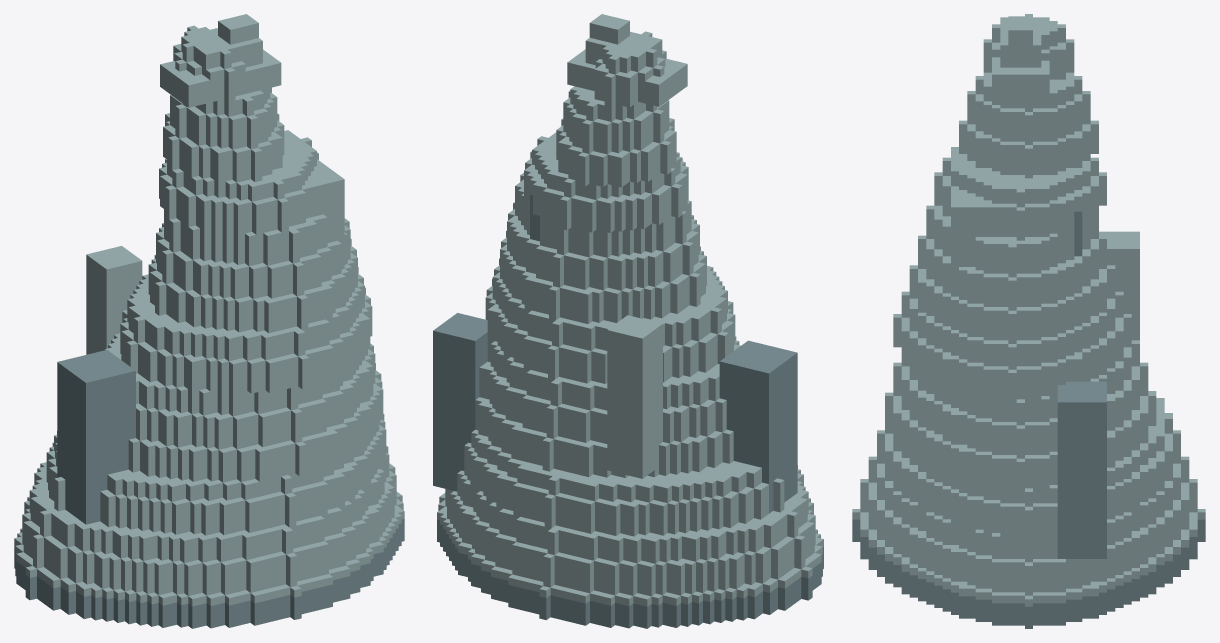
File: crag_breakable.glb
The picture shows the model from 3 angles, left to right: view 1: azimuth 30°, elevation 25°; view 2: azimuth 150°, elevation 25°; view 3: azimuth 270°, elevation 25°; orthographic projection.
Visible parts, largest first — view 1: CragBreakableSurface; view 2: CragBreakableSurface; view 3: CragBreakableSurface.
Part boxes in pixels (x1=…): CragBreakableSurface: x1=14, y1=14, x2=404, y2=628; CragBreakableSurface: x1=433, y1=14, x2=823, y2=628; CragBreakableSurface: x1=852, y1=14, x2=1205, y2=628.
Bounding box in the file's own units: 6.38 × 8.88 × 5.38.
